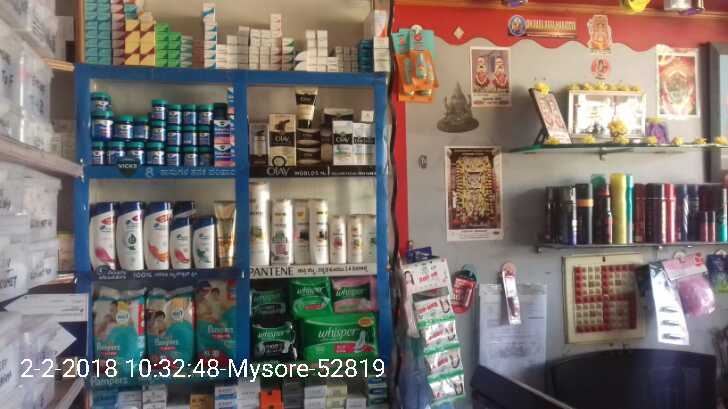beauty: (116, 201, 144, 272), (90, 200, 118, 271), (302, 195, 328, 264), (249, 179, 269, 266), (144, 201, 169, 269), (269, 196, 293, 265), (268, 113, 297, 169), (192, 217, 218, 272), (351, 121, 375, 168), (345, 216, 366, 266), (331, 123, 352, 168), (172, 218, 189, 270), (328, 215, 346, 264), (293, 82, 315, 121)
pharmacy: (302, 315, 388, 367), (146, 293, 195, 377), (94, 296, 145, 374), (196, 279, 235, 369), (251, 318, 295, 358), (329, 276, 376, 310), (293, 278, 332, 315), (248, 284, 291, 314), (208, 143, 235, 168), (211, 120, 236, 144), (91, 112, 112, 137), (88, 139, 107, 166), (126, 138, 144, 166), (114, 113, 134, 138), (146, 141, 165, 167), (147, 97, 167, 121), (106, 141, 124, 166), (163, 141, 179, 169), (88, 93, 113, 110), (182, 144, 195, 169), (184, 125, 198, 146), (200, 104, 213, 125), (168, 103, 181, 124), (185, 104, 196, 121)
